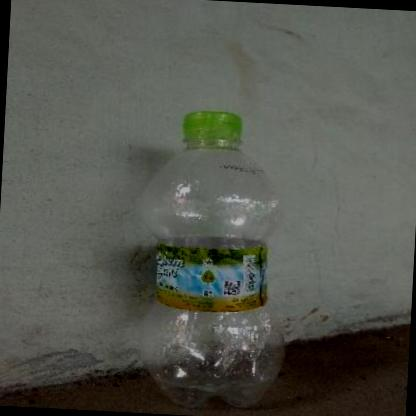plastic_bottles: (130, 104, 292, 416)
